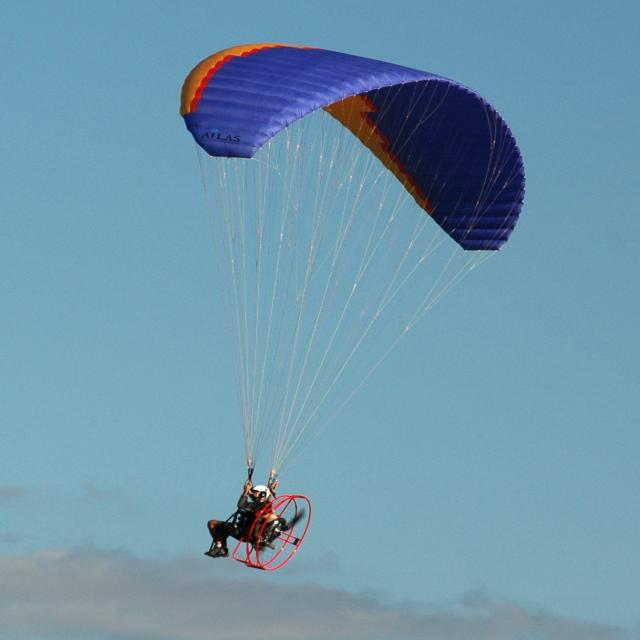paraglider: (171, 37, 527, 264)
